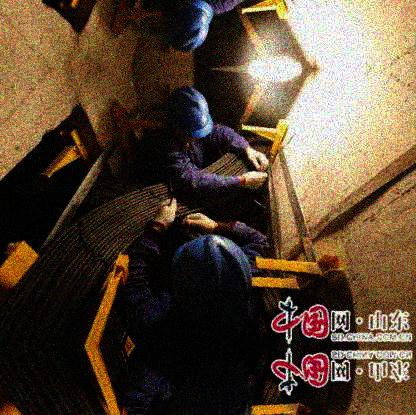helmet: (165, 84, 214, 147)
